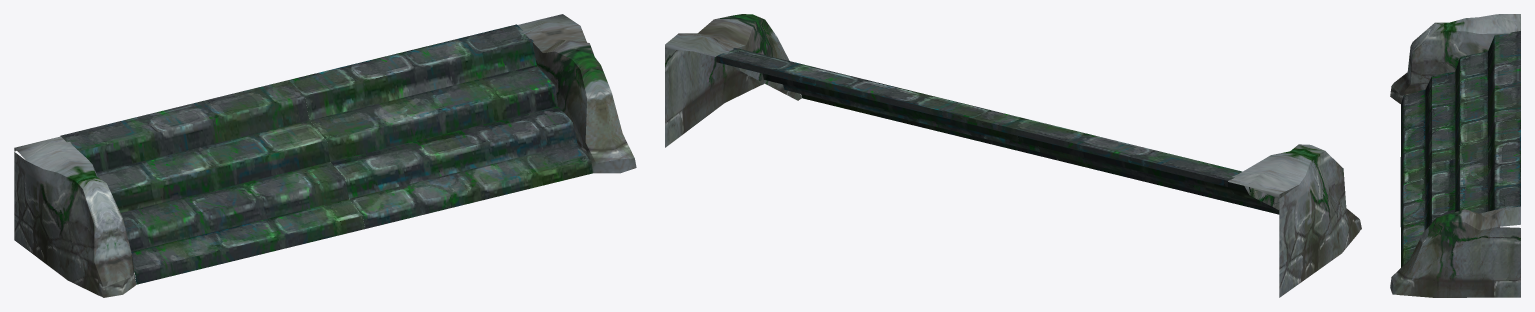
File: stemple_quarter_stair_02.fbx
3 views of the same model, side by side, from view 1: azimuth 30°, elevation 25°; view 2: azimuth 150°, elevation 25°; view 3: azimuth 270°, elevation 25° (orthographic). The views are drawn at different scales.
Parts seen in each view (by area): view 1: stemple_quarter_stair_02-0; view 2: stemple_quarter_stair_02-0; view 3: stemple_quarter_stair_02-0.
Boxes of the visible parts, x1,y1,x2,y2 form: stemple_quarter_stair_02-0: (14, 14, 636, 297); stemple_quarter_stair_02-0: (665, 14, 1361, 297); stemple_quarter_stair_02-0: (1390, 14, 1520, 297).
Size of the model in its own units: 8.91 by 1.51 by 2.31.
